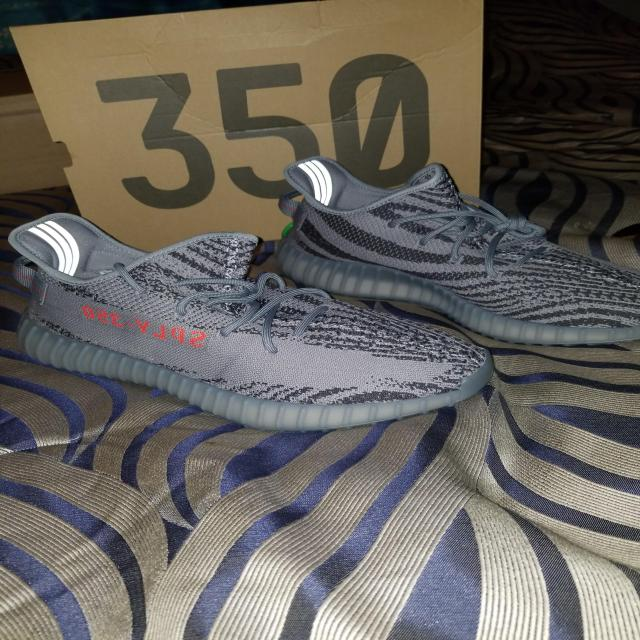shoe: (0, 206, 500, 435), (259, 149, 640, 357)
